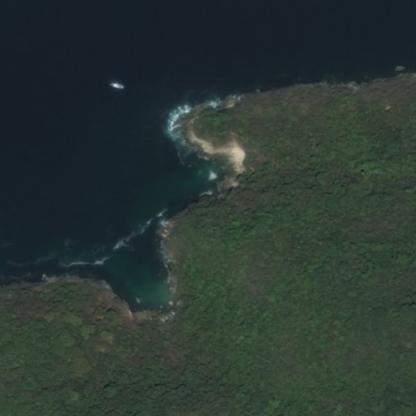ship: (102, 73, 127, 94)
